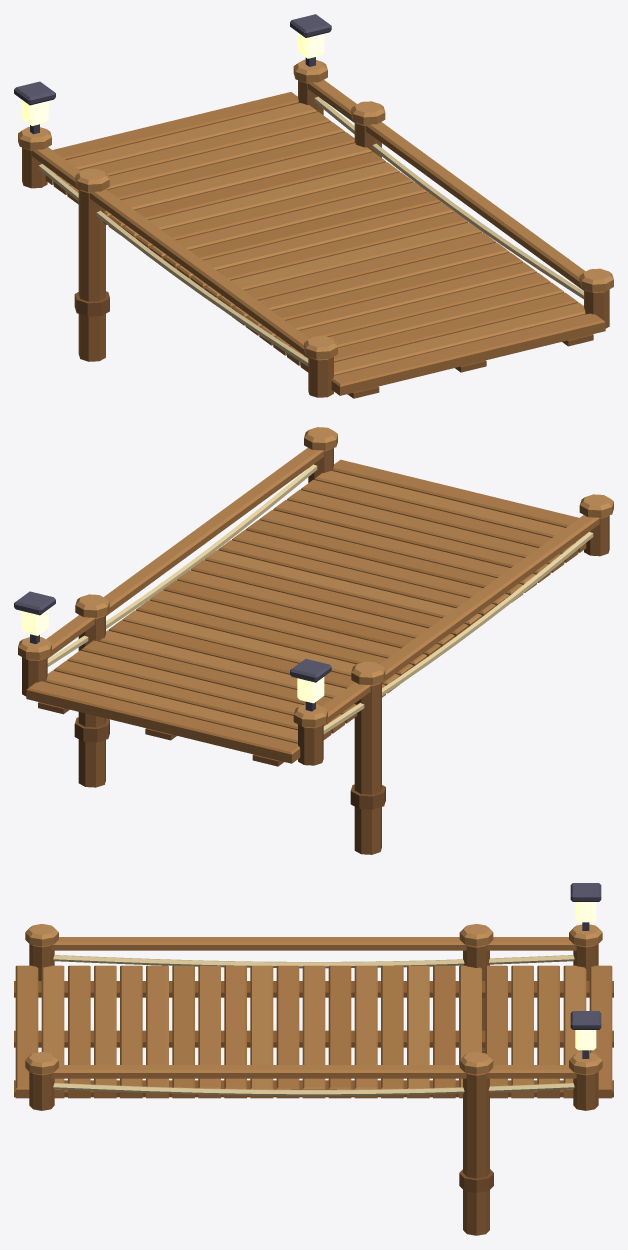
File: PlankBridge.glb
3 views of the same model, one above another, from view 1: azimuth 30°, elevation 25°; view 2: azimuth 150°, elevation 25°; view 3: azimuth 270°, elevation 25° (orthographic). The views are drawn at different scales.
Visible parts, largest first — view 1: PlankBridge, PlankBridge_Glow_lamp; view 2: PlankBridge, PlankBridge_Glow_lamp; view 3: PlankBridge, PlankBridge_Glow_lamp.
Part boxes in pixels (box(x1,y1,x2,y2)): PlankBridge: box(14, 14, 613, 398); PlankBridge_Glow_lamp: box(21, 32, 324, 125); PlankBridge: box(14, 427, 613, 854); PlankBridge_Glow_lamp: box(21, 609, 324, 703); PlankBridge: box(14, 883, 613, 1235); PlankBridge_Glow_lamp: box(575, 902, 596, 1050).
Size of the model in its own units: 12.04 by 8.4 by 21.4.
2 materials, 1 textured.
